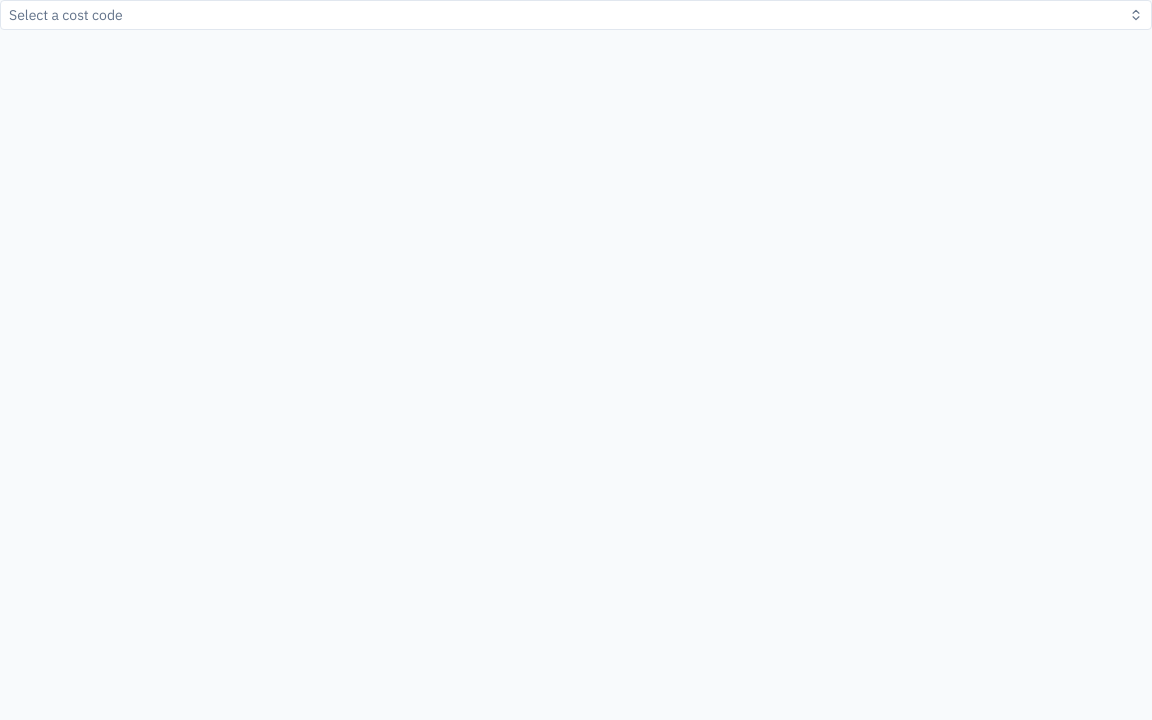
Test: CostCodePicker — field-name regression › SelectItem value uses cost_code_id (NOT mapping row id)
The width and height of the screenshot is (1152, 720).
Click the button with test id "cost-code-picker-trigger" at (66, 15), box [0, 0, 1151, 30]
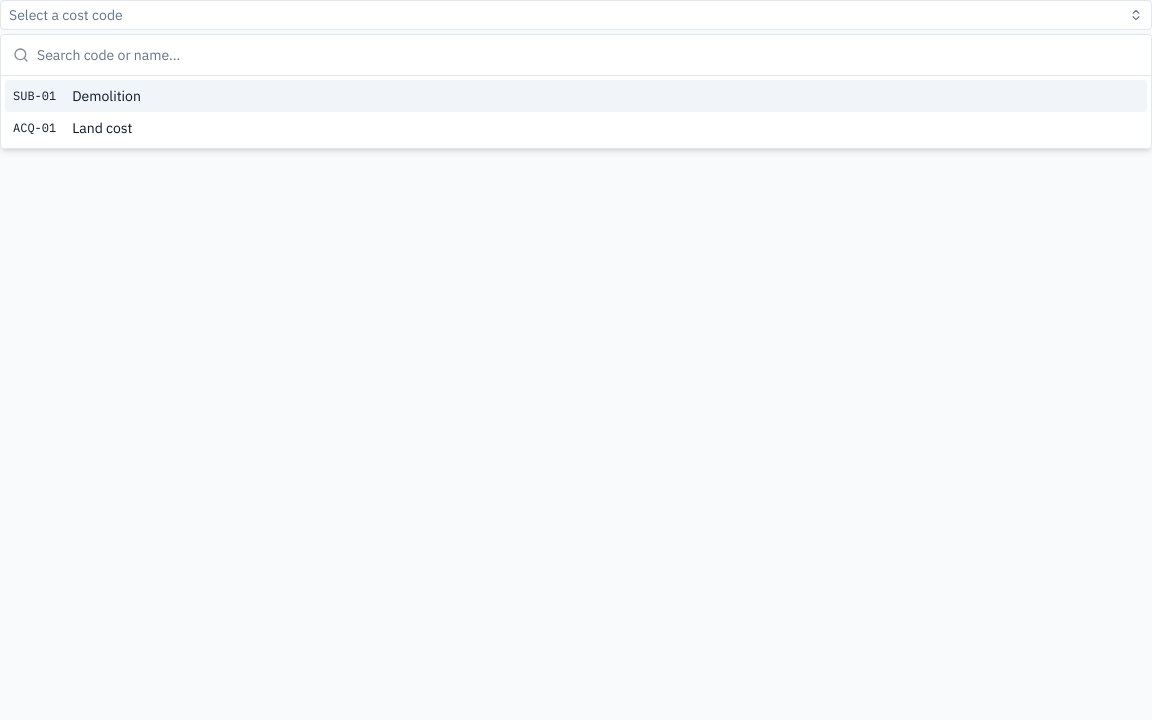
Result: the option with test id "cost-code-option-cc-target-1" is shown at [5, 80, 1147, 112]
